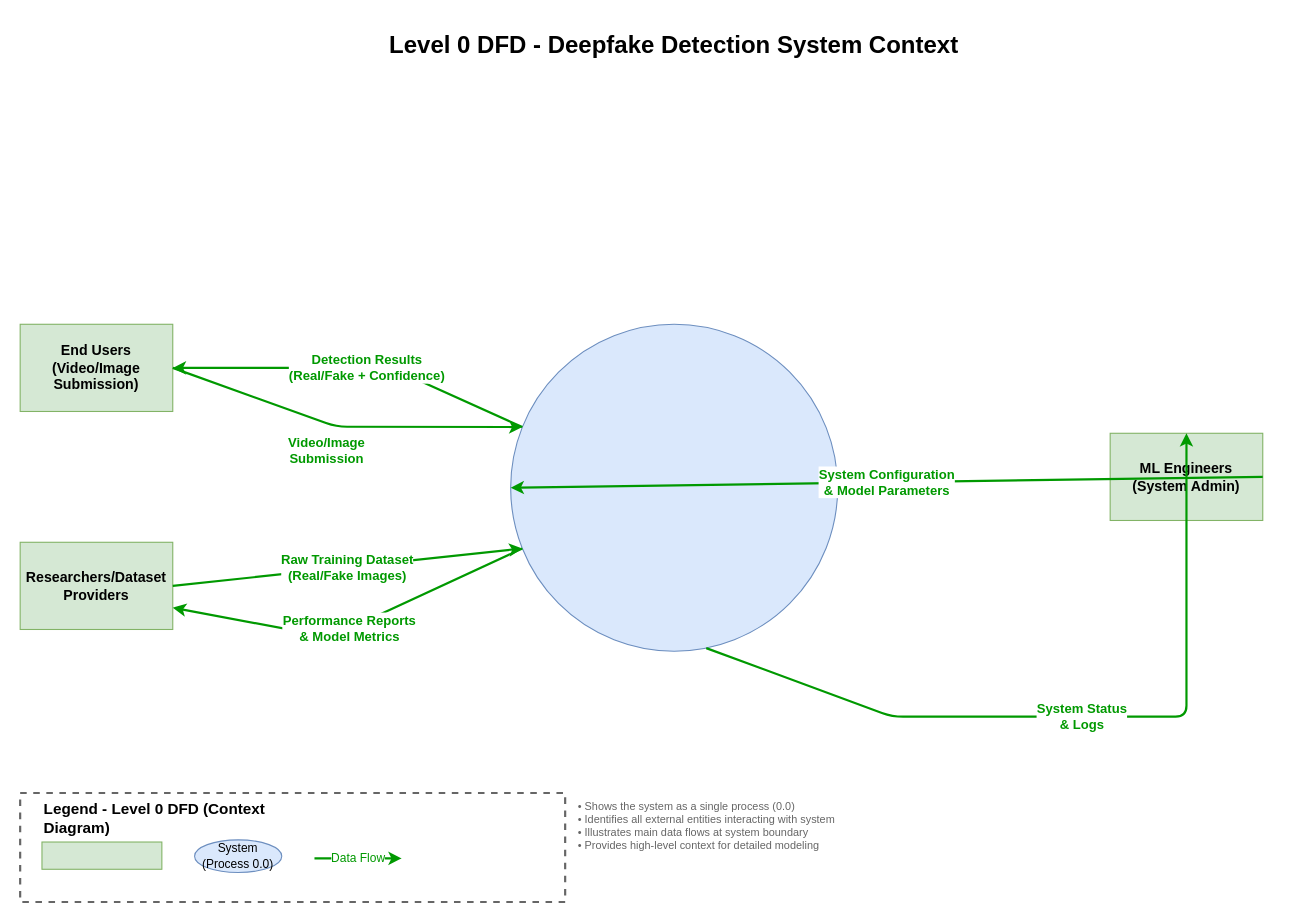
The diagram is 1291 pixels wide and 921 high, and some of its shapes have lost their labels. Here are the shapes that lost their labels. From the top down, the centre of each, then its label:
the point at 674,487: 0.0 Deepfake Detection System
the point at 101,855: External Entity
